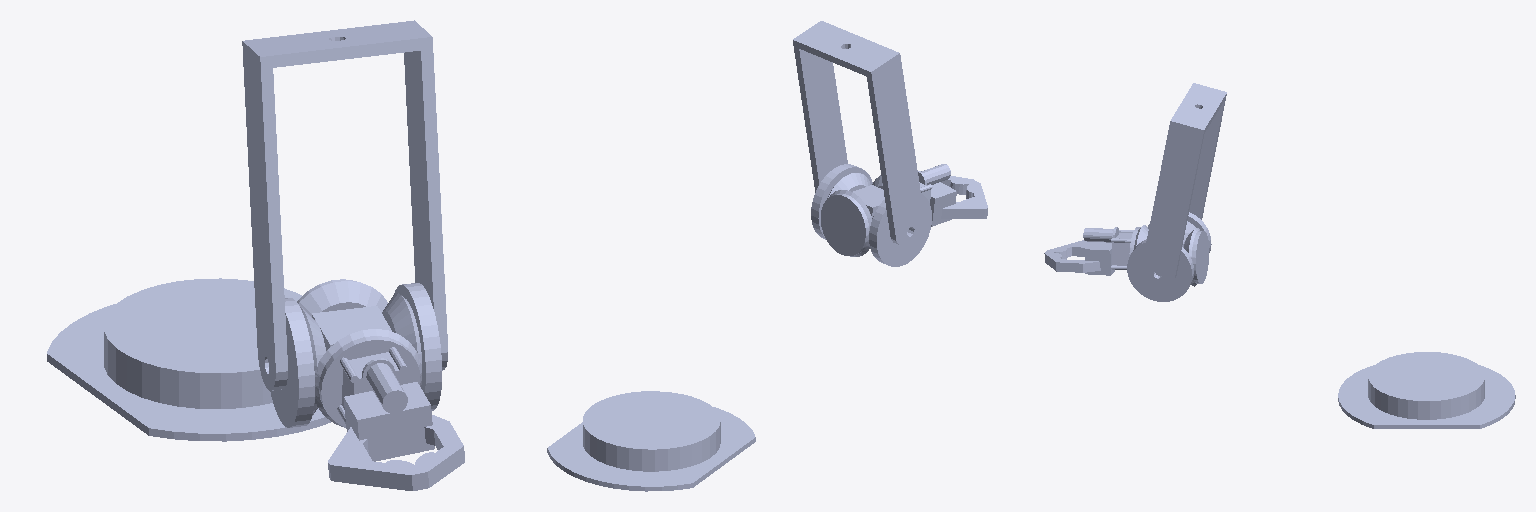
robot.urdf — arm_assembly:
<?xml version="1.0" encoding="utf-8" ?>
<!-- This URDF was automatically created by SolidWorks to URDF Exporter! Originally created by [author] ([email redacted]) 
     Commit Version: 1.6.0-4-g7f85cfe  Build Version: 1.6.7995.38578
     For more information, please see http://wiki.ros.org/sw_urdf_exporter -->
<robot name="arm_assembly">
    <link name="base_link">
        
<inertial>
            <origin xyz="1.03582841131364E-18 0.015606490089144 1.93574980271696E-18" rpy="0 0 0" />
            <mass value="0.93972387307473" />
            <inertia ixx="0.00251429022255044" ixy="8.65861551705636E-21" ixz="-7.37485241366082E-20" iyy="0.0044229329573873" iyz="2.27711298016934E-20" izz="0.0021336882069818" />
        </inertial>

        <visual>
            <origin xyz="0 0 0" rpy="0 0 0" />
            <geometry>
                <mesh filename="package://arm_assembly/meshes/base_link.STL" />
            </geometry>
            <material name="">
                <color rgba="0.792156862745098 0.819607843137255 0.933333333333333 1" />
            </material>
        </visual>
        <collision>
            <origin xyz="0 0 0" rpy="0 0 0" />
            <geometry>
                <mesh filename="package://arm_assembly/meshes/base_link.STL" />
            </geometry>
        </collision>
    </link>
    <link name="shoulderBase_link">
        
<inertial>
            <origin xyz="-0.0122586821821901 0.128577249577976 -0.00370544350042927" rpy="0 0 0" />
            <mass value="0.996366805002727" />
            <inertia ixx="0.00652370094208947" ixy="0.0010646616036529" ixz="0.000283127005277364" iyy="0.0050231810993567" iyz="6.82113719161566E-05" izz="0.0086334538259584" />
        </inertial>

        <visual>
            <origin xyz="0 0 0" rpy="0 0 0" />
            <geometry>
                <mesh filename="package://arm_assembly/meshes/shoulderBase_link.STL" />
            </geometry>
            <material name="">
                <color rgba="0.792156862745098 0.819607843137255 0.933333333333333 1" />
            </material>
        </visual>
        <collision>
            <origin xyz="0 0 0" rpy="0 0 0" />
            <geometry>
                <mesh filename="package://arm_assembly/meshes/shoulderBase_link.STL" />
            </geometry>
        </collision>
    </link>
    <joint name="turntable" type="continuous">
        <origin xyz="0 0 0.035865" rpy="1.5708 0 -0.25129" />
        <parent link="base_link" />
        <child link="shoulderBase_link" />
        <axis xyz="0 1 0" />
        <limit effort="50" velocity="1.5" lower="-3.1" upper="3.1" />
    </joint>
    <link name="upperArm_link">
        
<inertial>
            <origin xyz="0.0143973999054565 -3.20061625687929E-05 0.279348384794928" rpy="0 0 0" />
            <mass value="0.985210343915811" />
            <inertia ixx="0.0237982224738339" ixy="-8.87977733299251E-07" ixz="-0.00388532856230119" iyy="0.0293594722597602" iyz="-7.12944369971275E-06" izz="0.00625034839320104" />
        </inertial>

        <visual>
            <origin xyz="0 0 0" rpy="0 0 0" />
            <geometry>
                <mesh filename="package://arm_assembly/meshes/upperArm_link.STL" />
            </geometry>
            <material name="">
                <color rgba="0.792156862745098 0.819607843137255 0.933333333333333 1" />
            </material>
        </visual>
        <collision>
            <origin xyz="0 0 0" rpy="0 0 0" />
            <geometry>
                <mesh filename="package://arm_assembly/meshes/upperArm_link.STL" />
            </geometry>
        </collision>
    </link>
    <joint name="shoulder" type="continuous">
        <origin xyz="0 0.18098 0.043071" rpy="-1.1021 0 0" />
        <parent link="shoulderBase_link" />
        <child link="upperArm_link" />
        <axis xyz="1 0 0" />
        <limit effort="50" velocity="1.5" lower="-0.349" upper="0.78539" />
    </joint>
    <link name="forarm_link">
        
<inertial>
            <origin xyz="1.84574577843932E-15 0.0550154986611603 0.120152803034247" rpy="0 0 0" />
            <mass value="0.517796101730459" />
            <inertia ixx="0.00404850874710771" ixy="2.11419423634673E-18" ixz="-1.54871504075976E-17" iyy="0.00375548329392274" iyz="-0.000377385363706529" izz="0.000788327838226562" />
        </inertial>

        <visual>
            <origin xyz="0 0 0" rpy="0 0 0" />
            <geometry>
                <mesh filename="package://arm_assembly/meshes/forarm_link.STL" />
            </geometry>
            <material name="">
                <color rgba="0.792156862745098 0.819607843137255 0.933333333333333 1" />
            </material>
        </visual>
        <collision>
            <origin xyz="0 0 0" rpy="0 0 0" />
            <geometry>
                <mesh filename="package://arm_assembly/meshes/forarm_link.STL" />
            </geometry>
        </collision>
    </link>
    <joint name="elbow" type="continuous">
        <origin xyz="0 0 0.46634" rpy="2.4936 0 0" />
        <parent link="upperArm_link" />
        <child link="forarm_link" />
        <axis xyz="1 0 0" />
        <limit effort="50" velocity="1.5" lower="0" upper="3.1" />
    </joint>
    <link name="wirstBase_link">
        
<inertial>
            <origin xyz="-1.94289029309402E-16 -1.66533453693773E-15 0.0987034845564234" rpy="0 0 0" />
            <mass value="0.301763082175337" />
            <inertia ixx="0.00210344289702837" ixy="-2.71050543121376E-19" ixz="-2.24971950790742E-18" iyy="0.00305016250706558" iyz="1.85669622038143E-18" izz="0.00107609106501786" />
        </inertial>

        <visual>
            <origin xyz="0 0 0" rpy="0 0 0" />
            <geometry>
                <mesh filename="package://arm_assembly/meshes/wirstBase_link.STL" />
            </geometry>
            <material name="">
                <color rgba="0.792156862745098 0.819607843137255 0.933333333333333 1" />
            </material>
        </visual>
        <collision>
            <origin xyz="0 0 0" rpy="0 0 0" />
            <geometry>
                <mesh filename="package://arm_assembly/meshes/wirstBase_link.STL" />
            </geometry>
        </collision>
    </link>
    <joint name="forearm_roll" type="continuous">
        <origin xyz="0 0.04445 0.2285" rpy="0 0 0" />
        <parent link="forarm_link" />
        <child link="wirstBase_link" />
        <axis xyz="0 0 1" />
        <limit effort="50" velocity="1.5" lower="-3.1" upper="3.1" />
    </joint>
    <link name="wrist_link">
        
<inertial>
            <origin xyz="4.30211422042248E-16 -2.77555756156289E-17 0" rpy="0 0 0" />
            <mass value="0.447707117943176" />
            <inertia ixx="0.000367702266904795" ixy="1.79994501291539E-19" ixz="-7.45388993583784E-19" iyy="0.000843427086265753" iyz="-1.35525271560688E-20" izz="0.00084474612356066" />
        </inertial>

        <visual>
            <origin xyz="0 0 0" rpy="0 0 0" />
            <geometry>
                <mesh filename="package://arm_assembly/meshes/wrist_link.STL" />
            </geometry>
            <material name="">
                <color rgba="0.792156862745098 0.819607843137255 0.933333333333333 1" />
            </material>
        </visual>
        <collision>
            <origin xyz="0 0 0" rpy="0 0 0" />
            <geometry>
                <mesh filename="package://arm_assembly/meshes/wrist_link.STL" />
            </geometry>
        </collision>
    </link>
    <joint name="wrist_pitch" type="continuous">
        <origin xyz="0 0 0.23716" rpy="-1.333 0 0" />
        <parent link="wirstBase_link" />
        <child link="wrist_link" />
        <axis xyz="1 0 0" />
        <limit effort="50" velocity="1.5" lower="-1.5707963267948966" upper="1.5707963267948966" />
    </joint>
    <link name="manipulator_link">
        
<inertial>
            <origin xyz="-0.000730323740460503 -0.000899365669252 0.0490560099953423" rpy="0 0 0" />
            <mass value="0.397420225554811" />
            <inertia ixx="0.00159684305263878" ixy="-3.07243227891656E-06" ixz="2.53235579936151E-05" iyy="0.0016343224414688" iyz="5.00292290874635E-05" izz="0.000256322563994287" />
        </inertial>

        <visual>
            <origin xyz="0 0 0" rpy="0 0 0" />
            <geometry>
                <mesh filename="package://arm_assembly/meshes/manipulator_link.STL" />
            </geometry>
            <material name="">
                <color rgba="0.792156862745098 0.819607843137255 0.933333333333333 1" />
            </material>
        </visual>
        <collision>
            <origin xyz="0 0 0" rpy="0 0 0" />
            <geometry>
                <mesh filename="package://arm_assembly/meshes/manipulator_link.STL" />
            </geometry>
        </collision>
    </link>
    <joint name="wrist_roll" type="continuous">
        <origin xyz="0 0 0" rpy="0 0 0.096862" />
        <parent link="wrist_link" />
        <child link="manipulator_link" />
        <axis xyz="0 0 1" />
        <limit effort="50" velocity="1.5" lower="-3.15" upper="3.15" />
    </joint>
    
<transmission name="trans_turntable">
        <type>transmission_interface/SimpleTransmission</type>
        <joint name="turntable">
            <hardwareInterface>hardware_interface/EffortJointInterface</hardwareInterface>
        </joint>
        <actuator name="turntable_motor">
            <hardwareInterface>hardware_interface/EffortJointInterface</hardwareInterface>
            <mechanicalReduction>1</mechanicalReduction>
        </actuator>
    </transmission>
    <transmission name="trans_shoulder">
        <type>transmission_interface/SimpleTransmission</type>
        <joint name="shoulder">
            <hardwareInterface>hardware_interface/EffortJointInterface</hardwareInterface>
        </joint>
        <actuator name="shoulder_motor">
            <hardwareInterface>hardware_interface/EffortJointInterface</hardwareInterface>
            <mechanicalReduction>1</mechanicalReduction>
        </actuator>
    </transmission>
    <transmission name="trans_elbow">
        <type>transmission_interface/SimpleTransmission</type>
        <joint name="elbow">
            <hardwareInterface>hardware_interface/EffortJointInterface</hardwareInterface>
        </joint>
        <actuator name="elbow_motor">
            <hardwareInterface>hardware_interface/EffortJointInterface</hardwareInterface>
            <mechanicalReduction>1</mechanicalReduction>
        </actuator>
    </transmission>
    <transmission name="trans_forearm_roll">
        <type>transmission_interface/SimpleTransmission</type>
        <joint name="forearm_roll">
            <hardwareInterface>hardware_interface/EffortJointInterface</hardwareInterface>
        </joint>
        <actuator name="forearm_roll_motor">
            <hardwareInterface>hardware_interface/EffortJointInterface</hardwareInterface>
            <mechanicalReduction>1</mechanicalReduction>
        </actuator>
    </transmission>
    <transmission name="trans_wrist_pitch">
        <type>transmission_interface/SimpleTransmission</type>
        <joint name="wrist_pitch">
            <hardwareInterface>hardware_interface/EffortJointInterface</hardwareInterface>
        </joint>
        <actuator name="wrist_pitch_motor">
            <hardwareInterface>hardware_interface/EffortJointInterface</hardwareInterface>
            <mechanicalReduction>1</mechanicalReduction>
        </actuator>
    </transmission>
    <transmission name="trans_wrist_roll">
        <type>transmission_interface/SimpleTransmission</type>
        <joint name="wrist_roll">
            <hardwareInterface>hardware_interface/EffortJointInterface</hardwareInterface>
        </joint>
        <actuator name="wrist_roll_motor">
            <hardwareInterface>hardware_interface/EffortJointInterface</hardwareInterface>
            <mechanicalReduction>1</mechanicalReduction>
        </actuator>
    </transmission>
    <gazebo>
        <plugin name="gazebo_ros_control" filename="libgazebo_ros_control.so">
            <robotNamespace>/</robotNamespace>
        </plugin>
    </gazebo>
</robot>

--- Render facts (derived) ---
Views: 3 orthographic renders of the robot side by side, from view 1: azimuth 30°, elevation 25°; view 2: azimuth 150°, elevation 25°; view 3: azimuth 270°, elevation 25°.
Robot: arm_assembly — 7 links, 6 joints (6 continuous); root link base_link; default pose: every joint at zero.
Links seen in each view (by area): view 1: base_link, wirstBase_link, manipulator_link, wrist_link; view 2: base_link, wirstBase_link, manipulator_link, wrist_link; view 3: base_link, wirstBase_link, manipulator_link, wrist_link.
Link boxes in pixels (x1,y1,x2,y2): base_link: [47, 278, 330, 441]; wirstBase_link: [242, 20, 447, 390]; manipulator_link: [297, 279, 464, 490]; wrist_link: [270, 283, 441, 427]; base_link: [547, 391, 755, 491]; wirstBase_link: [793, 21, 924, 247]; manipulator_link: [821, 164, 987, 256]; wrist_link: [811, 164, 931, 266]; base_link: [1338, 352, 1515, 428]; wirstBase_link: [1141, 83, 1226, 286]; manipulator_link: [1044, 225, 1208, 286]; wrist_link: [1127, 212, 1211, 301].
Size in the robot's own frame: 0.288 by 0.6742 by 0.4277 metres.
4 mesh visuals loaded from 7 distinct referenced files (4 binary STL); not drawn: 3 (reference not matched to a file when rendering).